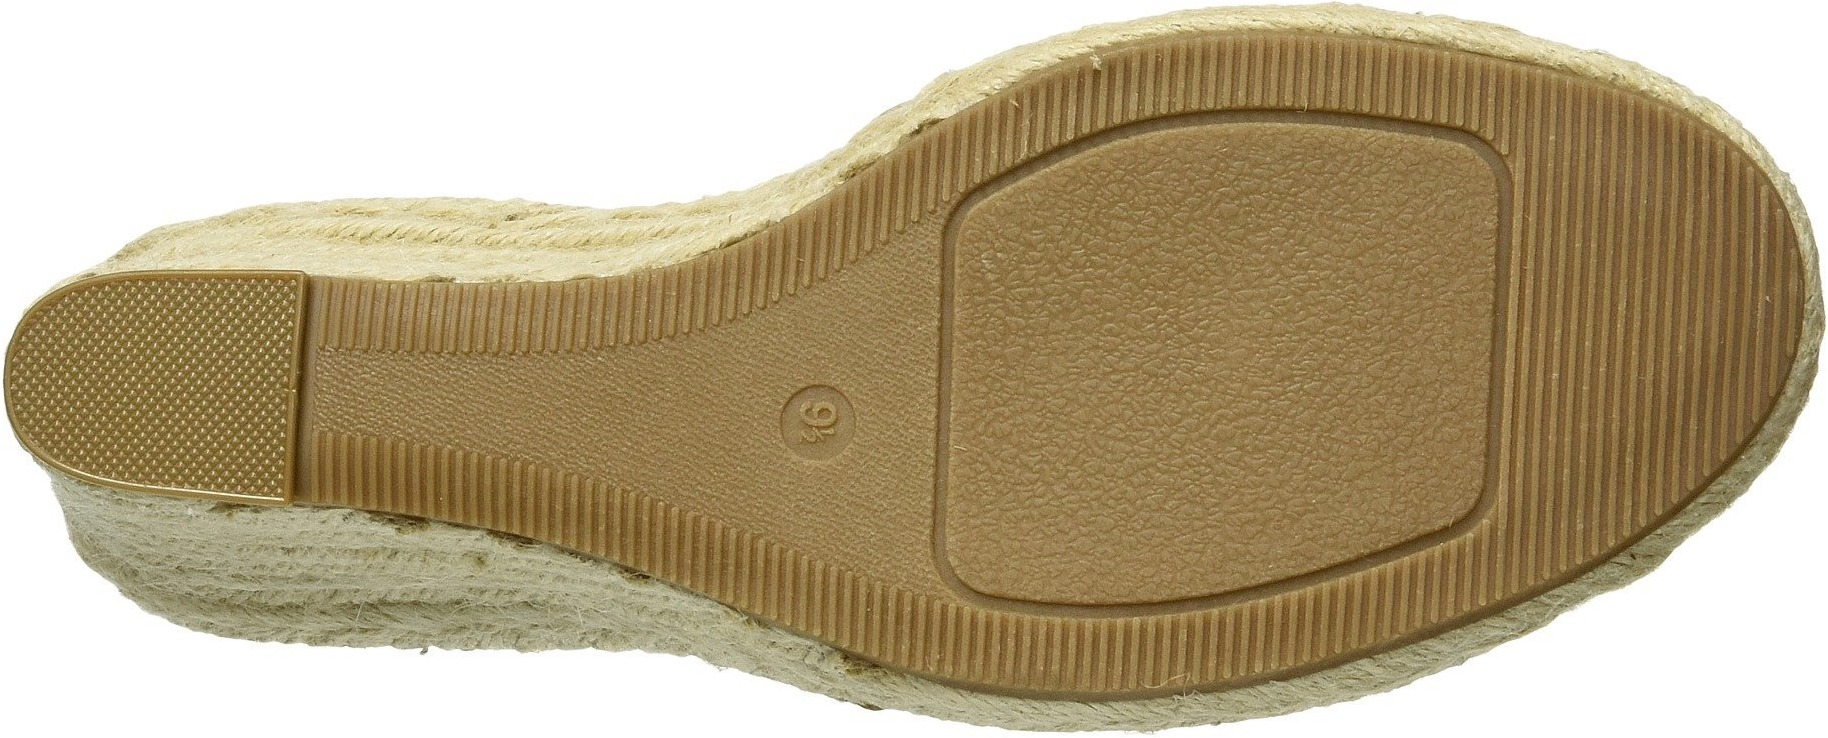other: (1181, 134, 1428, 391), (1528, 155, 1734, 384), (91, 284, 284, 484), (973, 226, 1162, 406), (998, 415, 1180, 591), (1264, 401, 1399, 542), (1518, 389, 1652, 523), (641, 354, 769, 484), (831, 277, 931, 379), (1035, 619, 1109, 696), (349, 284, 423, 356)
text: (794, 392, 849, 450)
